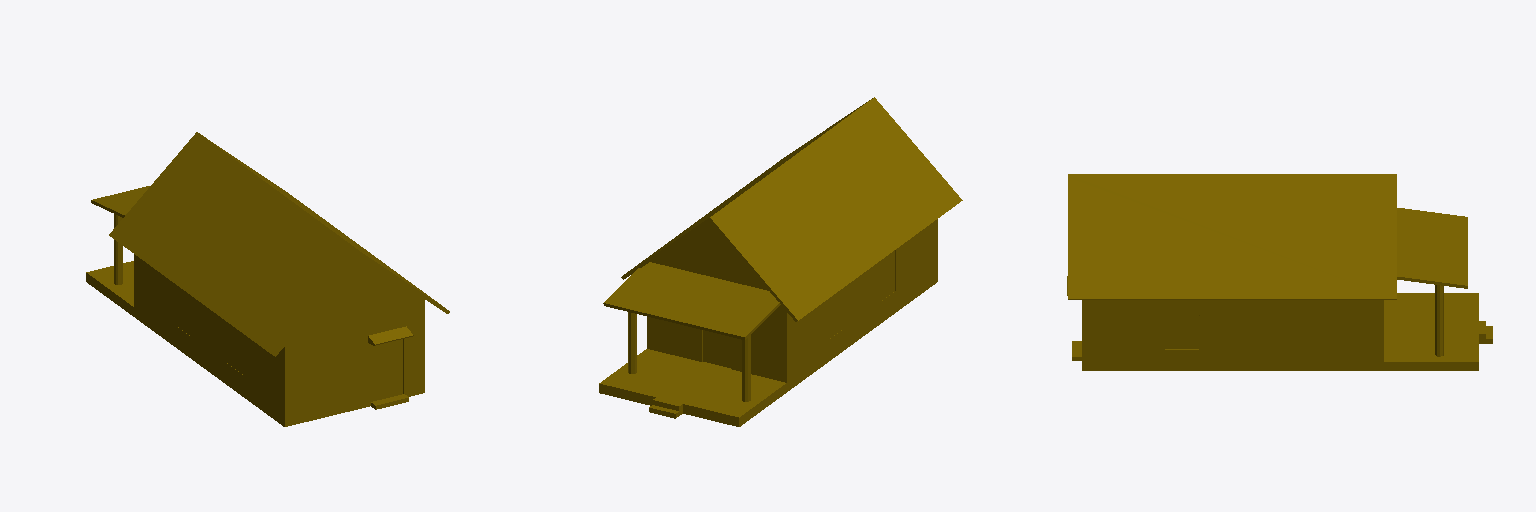
The model's file is farmhouse2.obj.
3 views of the same model, side by side, from view 1: azimuth 30°, elevation 25°; view 2: azimuth 150°, elevation 25°; view 3: azimuth 270°, elevation 25° (orthographic).
Visible parts, largest first — view 1: polySurface73; view 2: polySurface73; view 3: polySurface73.
Part boxes in pixels (bbox=[...]): polySurface73: bbox=[86, 132, 449, 426]; polySurface73: bbox=[599, 97, 962, 426]; polySurface73: bbox=[1067, 174, 1492, 370].
Size of the model in its own units: 24.28 by 21.28 by 50.36.